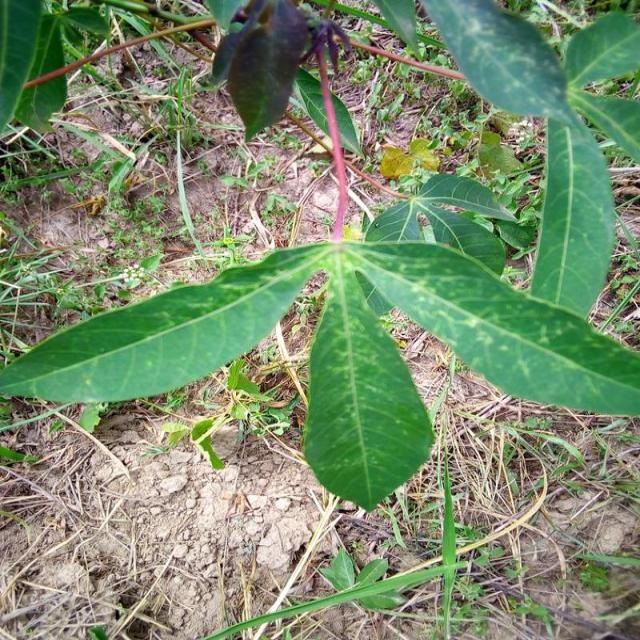cassava leaf: (2, 1, 640, 511), (302, 252, 435, 512)
